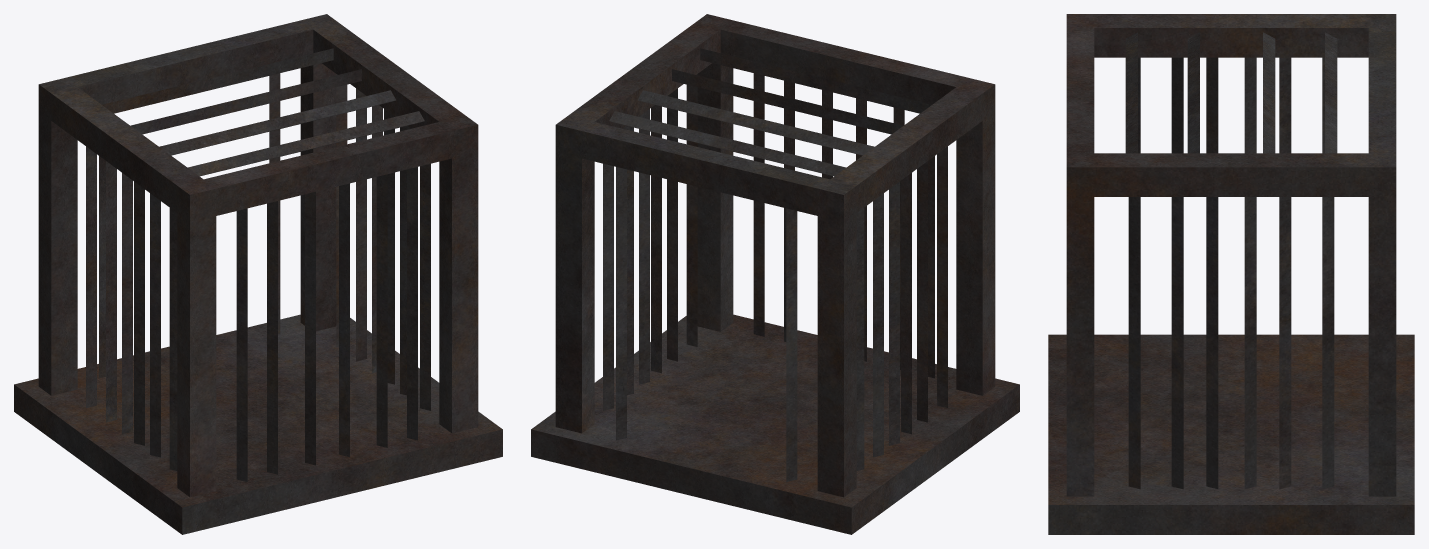
File: MedievalCage.fbx
3 views of the same model, side by side, from view 1: azimuth 30°, elevation 25°; view 2: azimuth 150°, elevation 25°; view 3: azimuth 270°, elevation 25° (orthographic). The views are drawn at different scales.
Visible parts, largest first — view 1: Cage; view 2: Cage; view 3: Cage.
Part boxes in pixels (<box>): Cage: <box>14,14,502,534</box>; Cage: <box>531,14,1019,534</box>; Cage: <box>1048,14,1414,534</box>.
Bounding box in the file's own units: 245 × 241 × 222.
